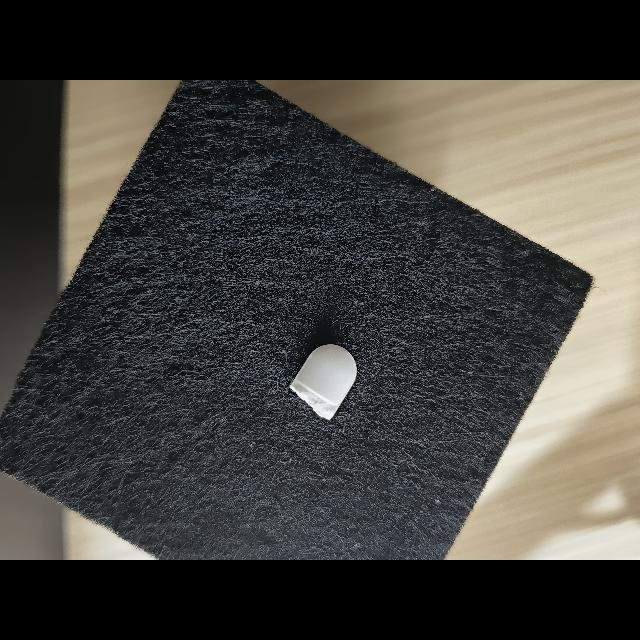Chipped Pill: (290, 344, 357, 420)
